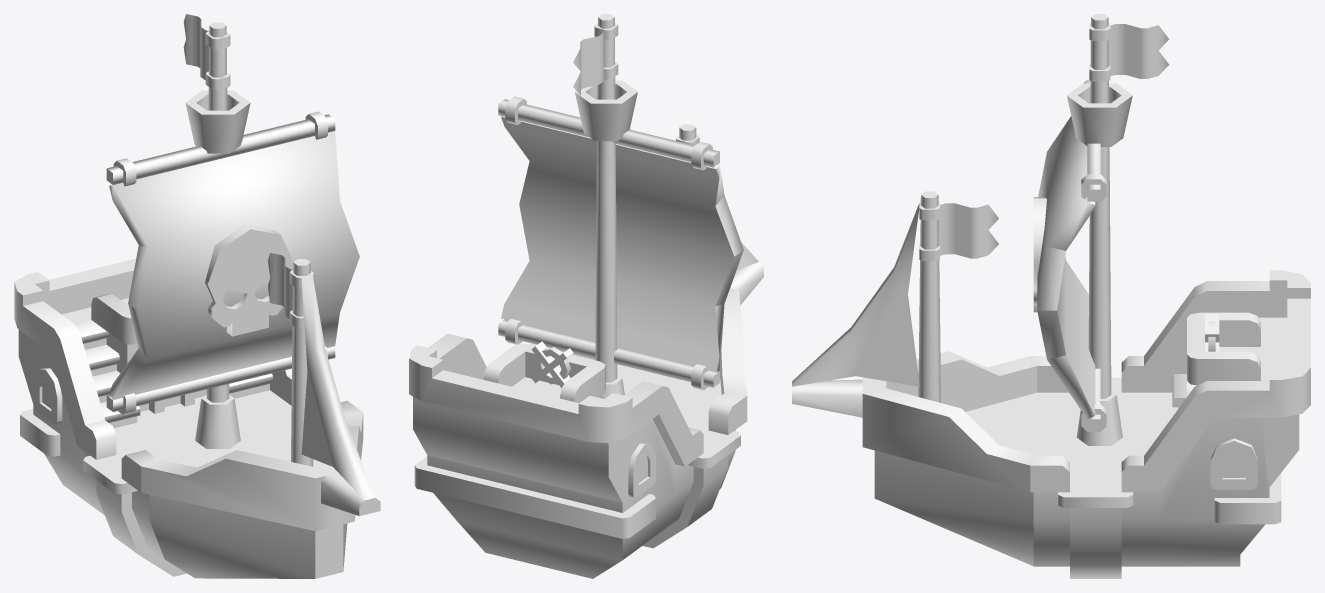
The model's file is ship-pirate-small.glb.
The picture shows the model from 3 angles, left to right: view 1: azimuth 30°, elevation 25°; view 2: azimuth 150°, elevation 25°; view 3: azimuth 270°, elevation 25°; orthographic projection. The views are drawn at different scales.
Parts seen in each view (by area): view 1: ship-pirate-small, sail-a, flag-b, flag-a; view 2: ship-pirate-small, sail-a, flag-b; view 3: ship-pirate-small, sail-a, flag-a, flag-b.
Boxes of the visible parts, x1=… form: ship-pirate-small: x1=14, y1=22, x2=380, y2=578; sail-a: x1=106, y1=111, x2=359, y2=414; flag-b: x1=183, y1=14, x2=230, y2=89; flag-a: x1=267, y1=253, x2=314, y2=328; ship-pirate-small: x1=409, y1=14, x2=763, y2=578; sail-a: x1=498, y1=96, x2=743, y2=390; flag-b: x1=573, y1=23, x2=618, y2=95; ship-pirate-small: x1=792, y1=14, x2=1310, y2=578; sail-a: x1=1033, y1=79, x2=1106, y2=431; flag-a: x1=919, y1=202, x2=998, y2=261; flag-b: x1=1089, y1=22, x2=1169, y2=81.
Bounding box in the file's own units: 4.8 × 9.96 × 8.8.
1 material, 1 textured.
